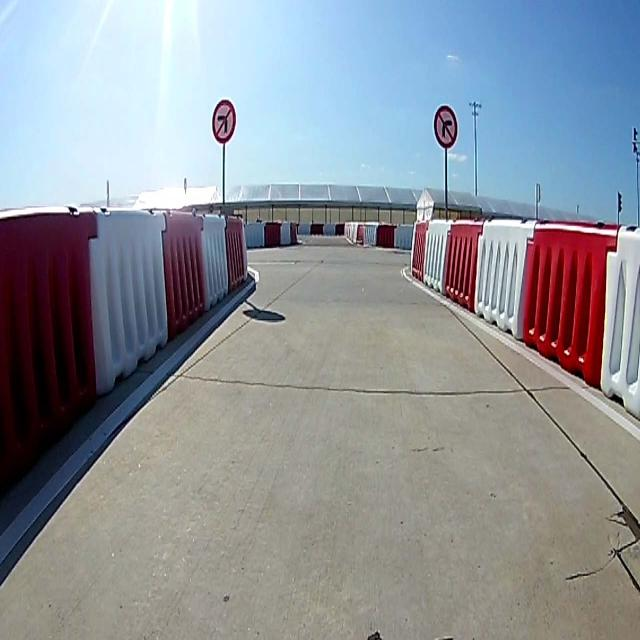sagadonulmez: (434, 104, 456, 148)
soladonulmez: (212, 101, 236, 143)
